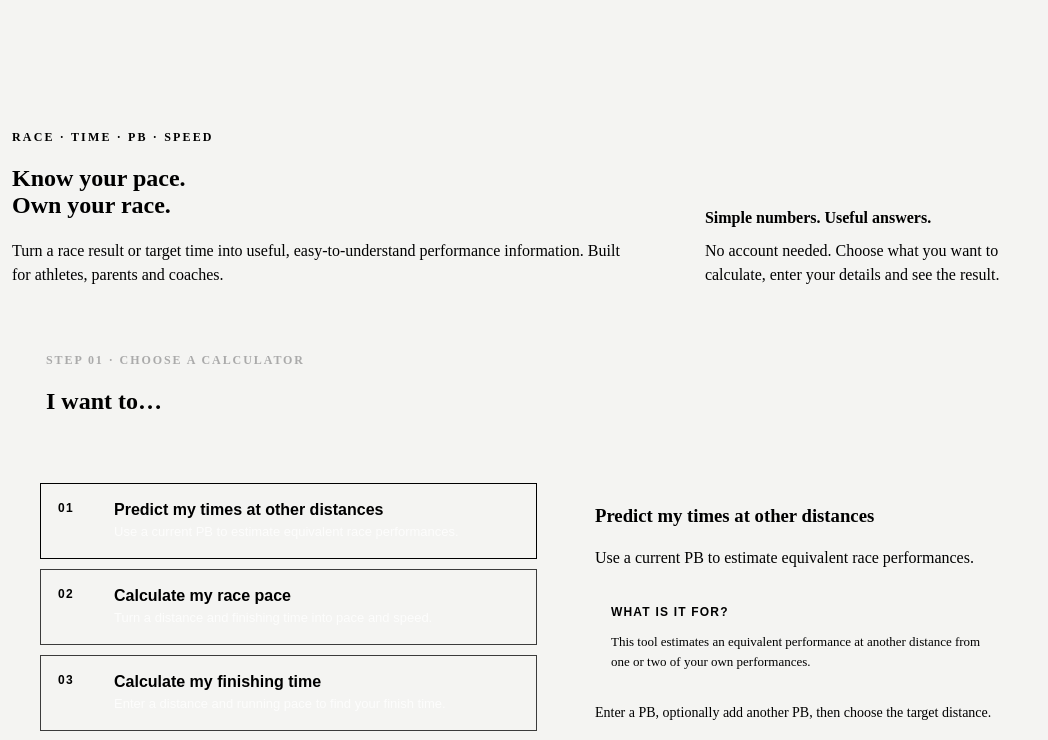
Test case: Tool 03 finishing time › resets the pace fields and the result
The width and height of the screenshot is (1048, 740).
Click the radio button that starts with "Calculate my finishing time" at (288, 693), box [40, 655, 537, 731]
(page scrolled)
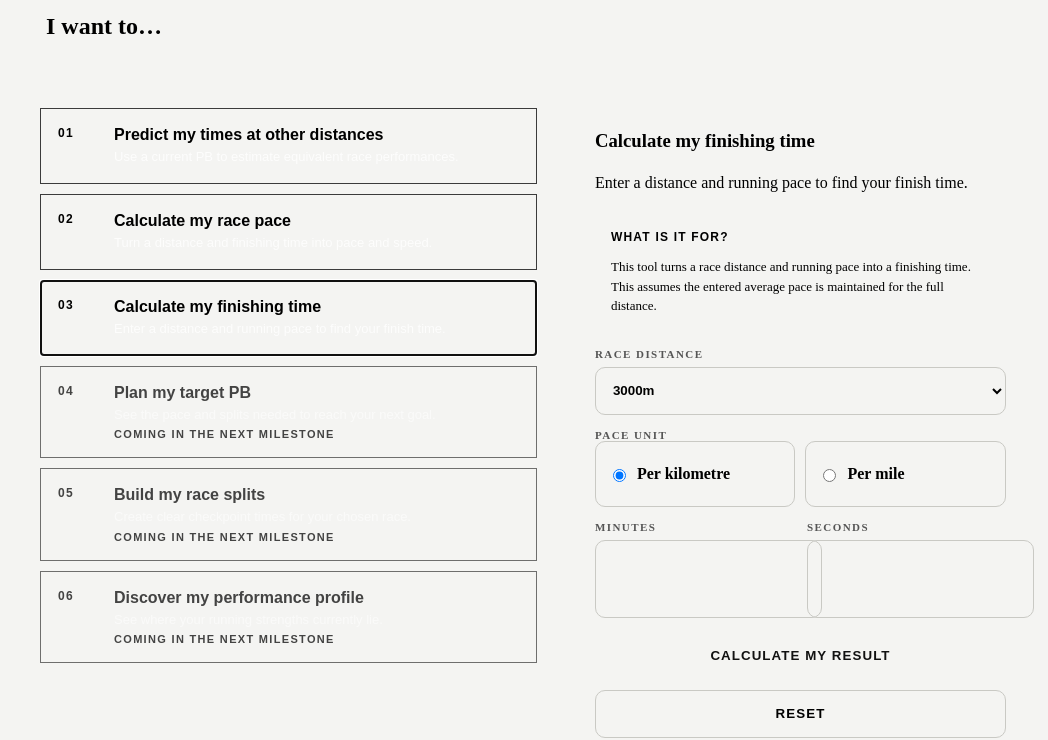
Click the radio button labelled "Per mile" at (830, 475), box [824, 469, 836, 482]
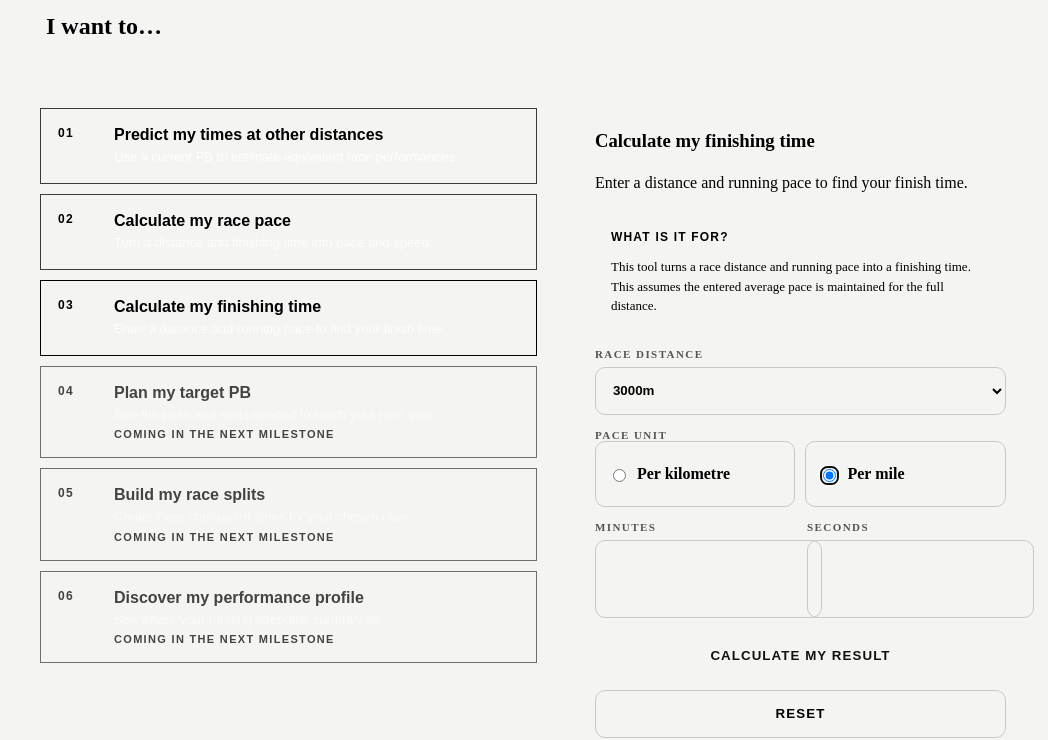
Type "4" into the field labelled "Minutes" at (708, 579), box [595, 540, 822, 618]
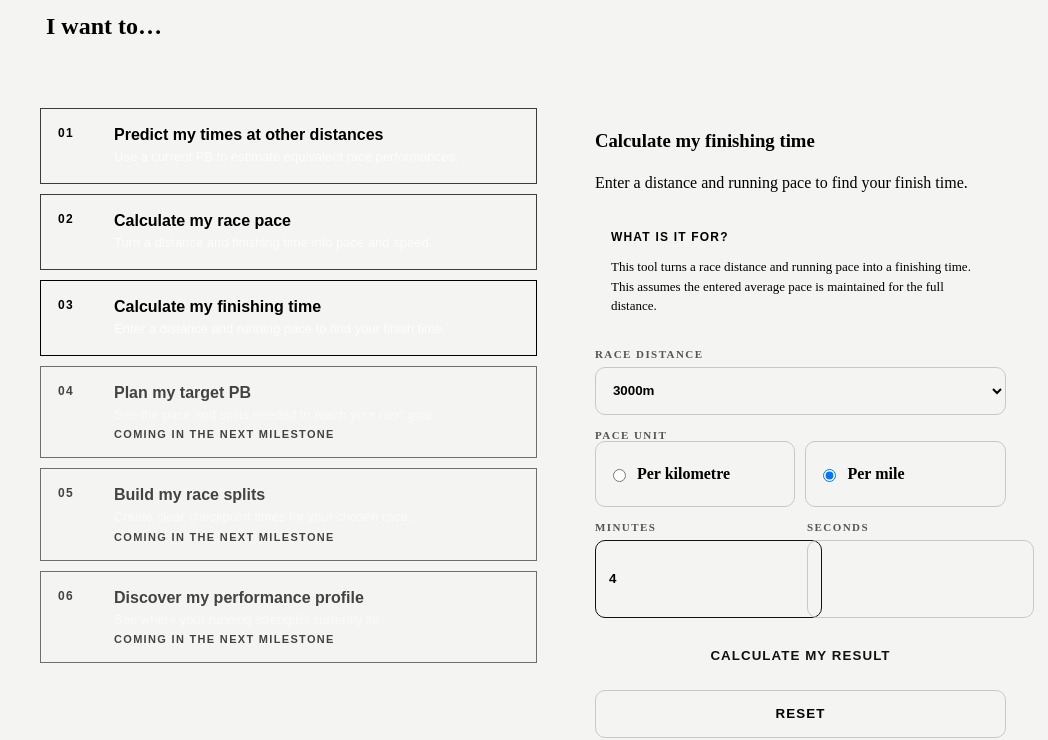
Type "10" into the field labelled "Seconds" at (920, 579), box [807, 540, 1034, 618]
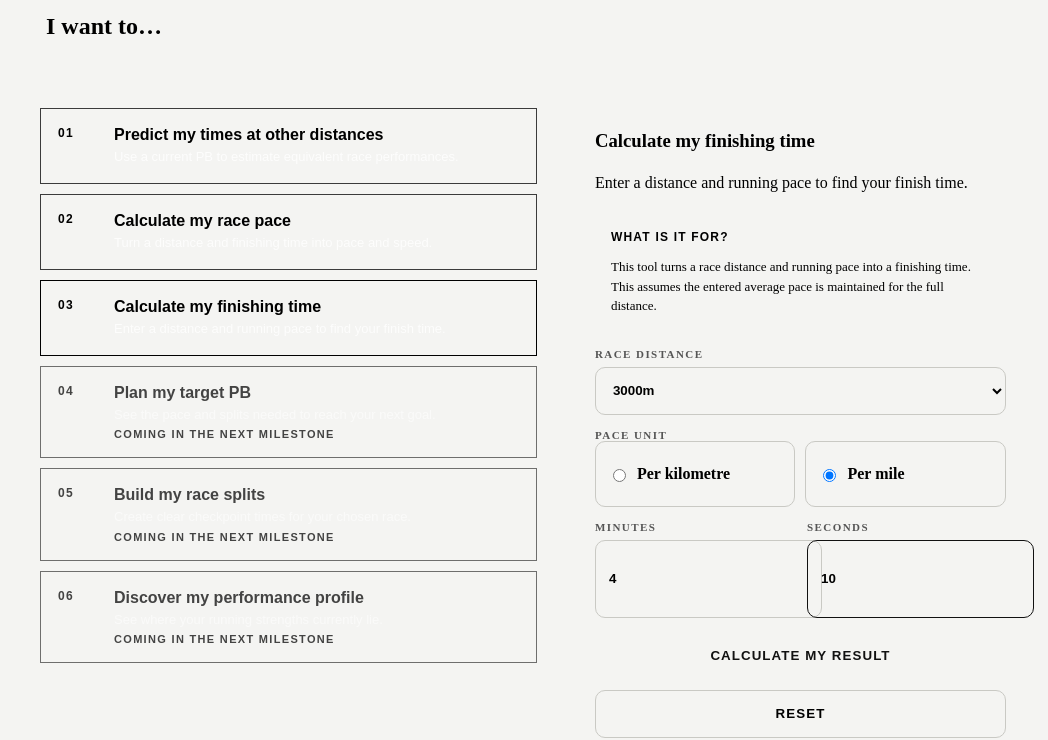
Click the button "Calculate my result" at (800, 656), box [595, 632, 1006, 680]
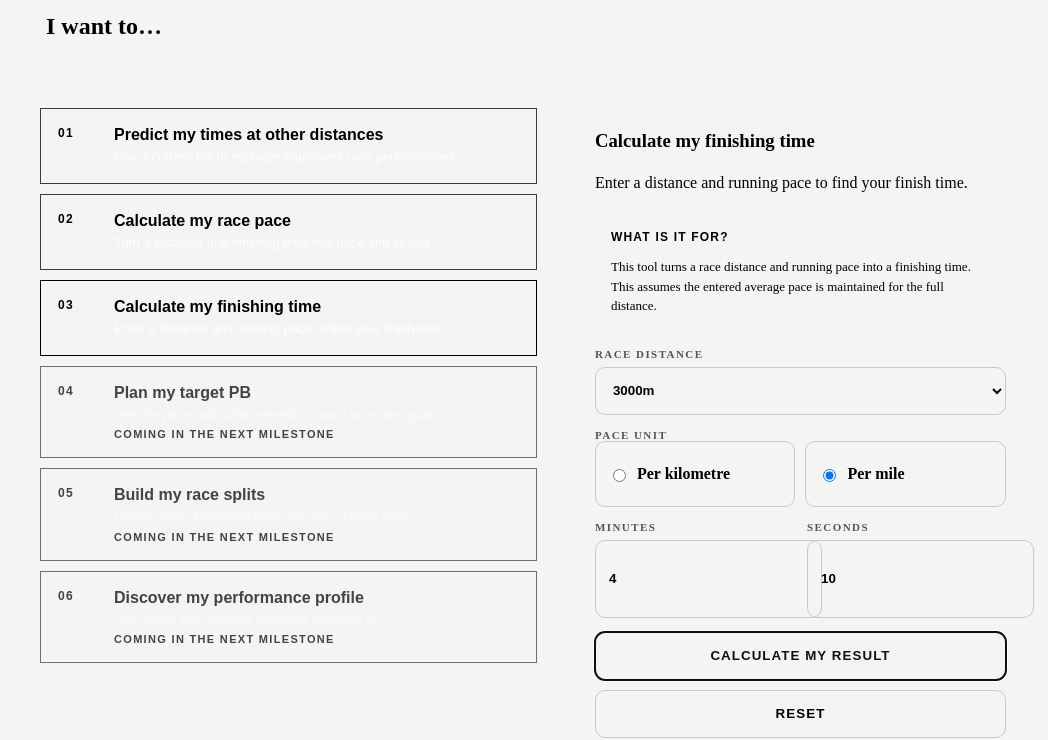
Click the button "Reset" at (800, 714), box [595, 690, 1006, 738]
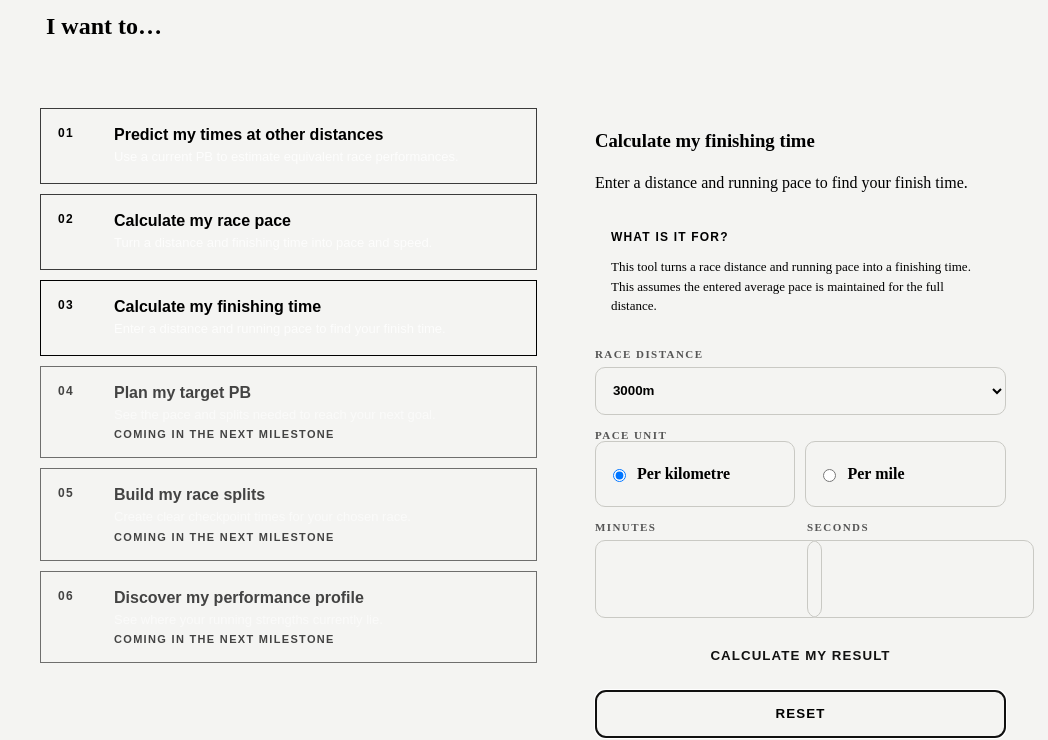
Check: the dropdown labelled "Race distance" shows "3000m", box [595, 367, 1006, 415]
Check: the radio button labelled "Per kilometre" is checked, box [613, 469, 626, 482]
